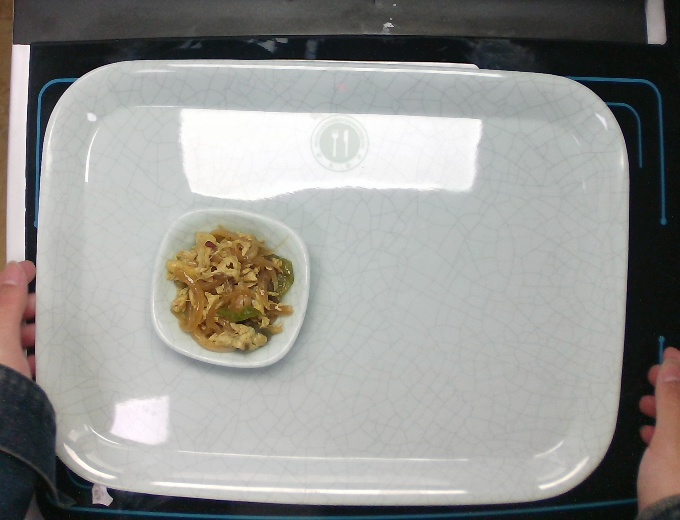JYsf-Si_Fang_Die: (146, 205, 315, 372)
